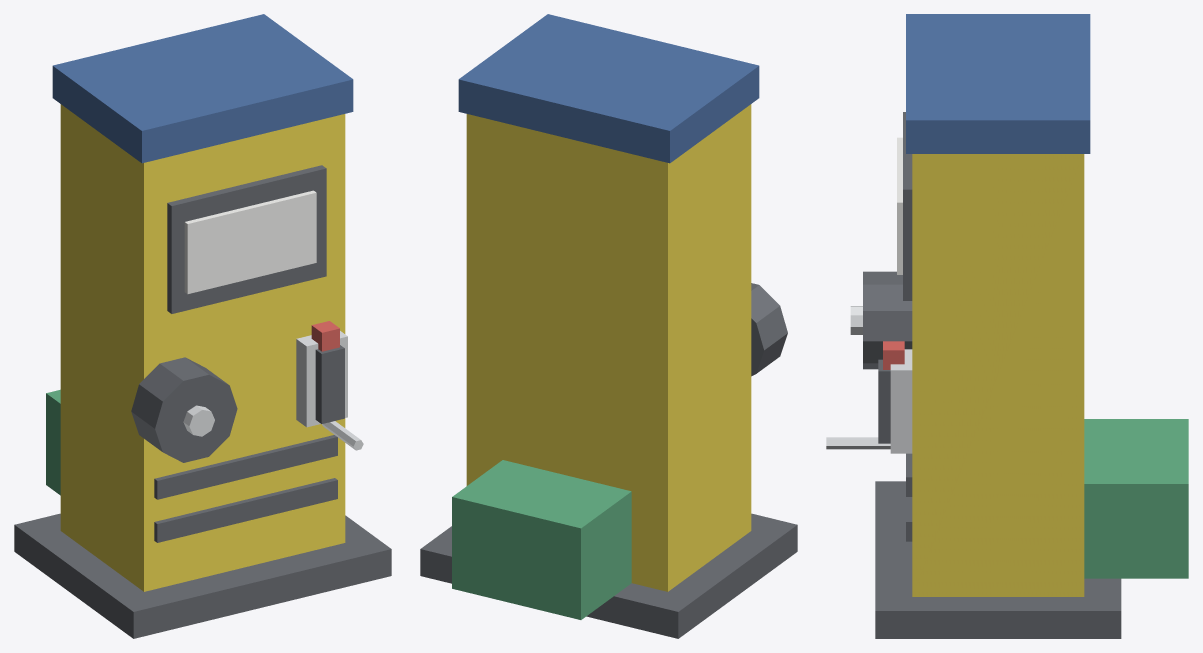
The model's file is marina-and-yacht-club-marina-and-yacht-club-fuel-berth-caa7b93b__38295.glb.
The picture shows the model from 3 angles, left to right: view 1: azimuth 30°, elevation 25°; view 2: azimuth 150°, elevation 25°; view 3: azimuth 270°, elevation 25°; orthographic projection. The views are drawn at different scales.
Parts seen in each view (by area): view 1: marina-and-yacht-club-fuel-berth-pump, pump-nozzle/charcoal, pump-nozzle/red; view 2: marina-and-yacht-club-fuel-berth-pump; view 3: marina-and-yacht-club-fuel-berth-pump, pump-nozzle/charcoal, pump-nozzle/steel, pump-nozzle/red.
Boxes of the visible parts, x1=… form: marina-and-yacht-club-fuel-berth-pump: x1=14, y1=14, x2=391, y2=638; pump-nozzle/charcoal: x1=315, y1=345, x2=344, y2=423; pump-nozzle/red: x1=311, y1=321, x2=339, y2=351; marina-and-yacht-club-fuel-berth-pump: x1=420, y1=14, x2=797, y2=638; marina-and-yacht-club-fuel-berth-pump: x1=850, y1=14, x2=1188, y2=638; pump-nozzle/charcoal: x1=878, y1=359, x2=890, y2=443; pump-nozzle/steel: x1=826, y1=437, x2=890, y2=449; pump-nozzle/red: x1=883, y1=341, x2=904, y2=369.
Size of the model in its own units: 1 by 1.82 by 1.18.
